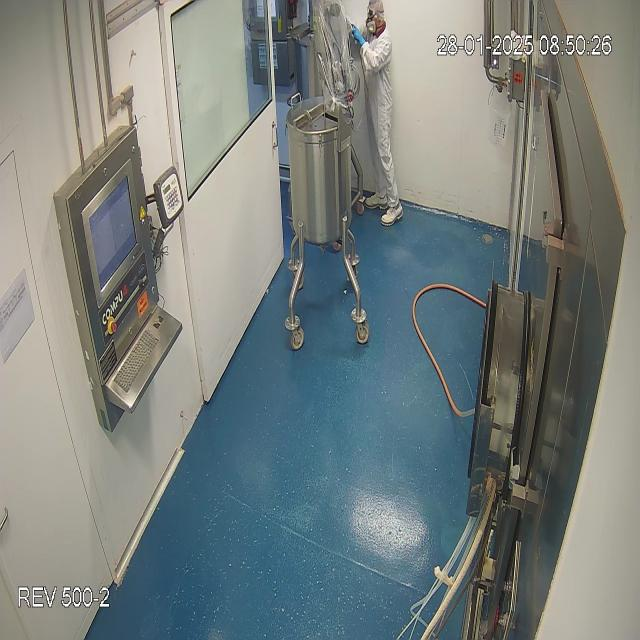bota: (365, 191, 404, 227)
pessoa: (352, 0, 404, 228)
touca: (364, 0, 387, 32)
